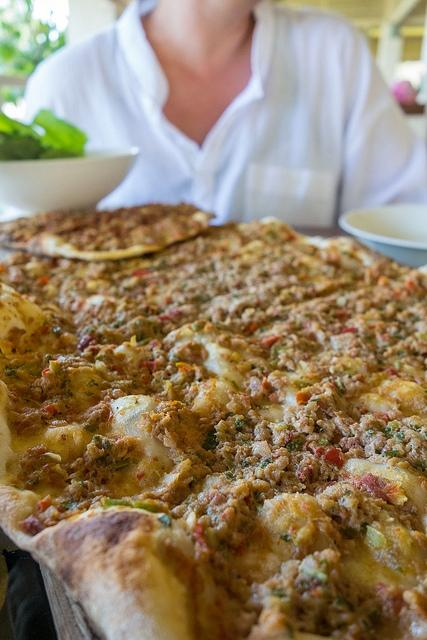lettuce: (27, 108, 88, 156), (0, 130, 46, 160)
